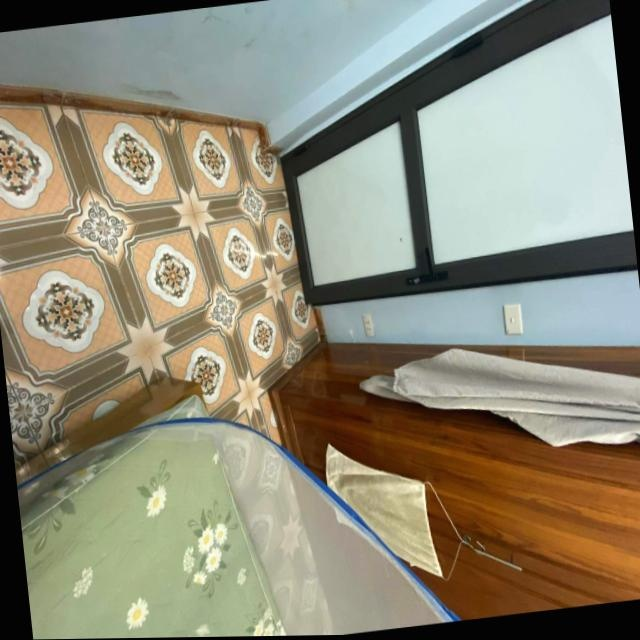outlet: (361, 312, 375, 337)
